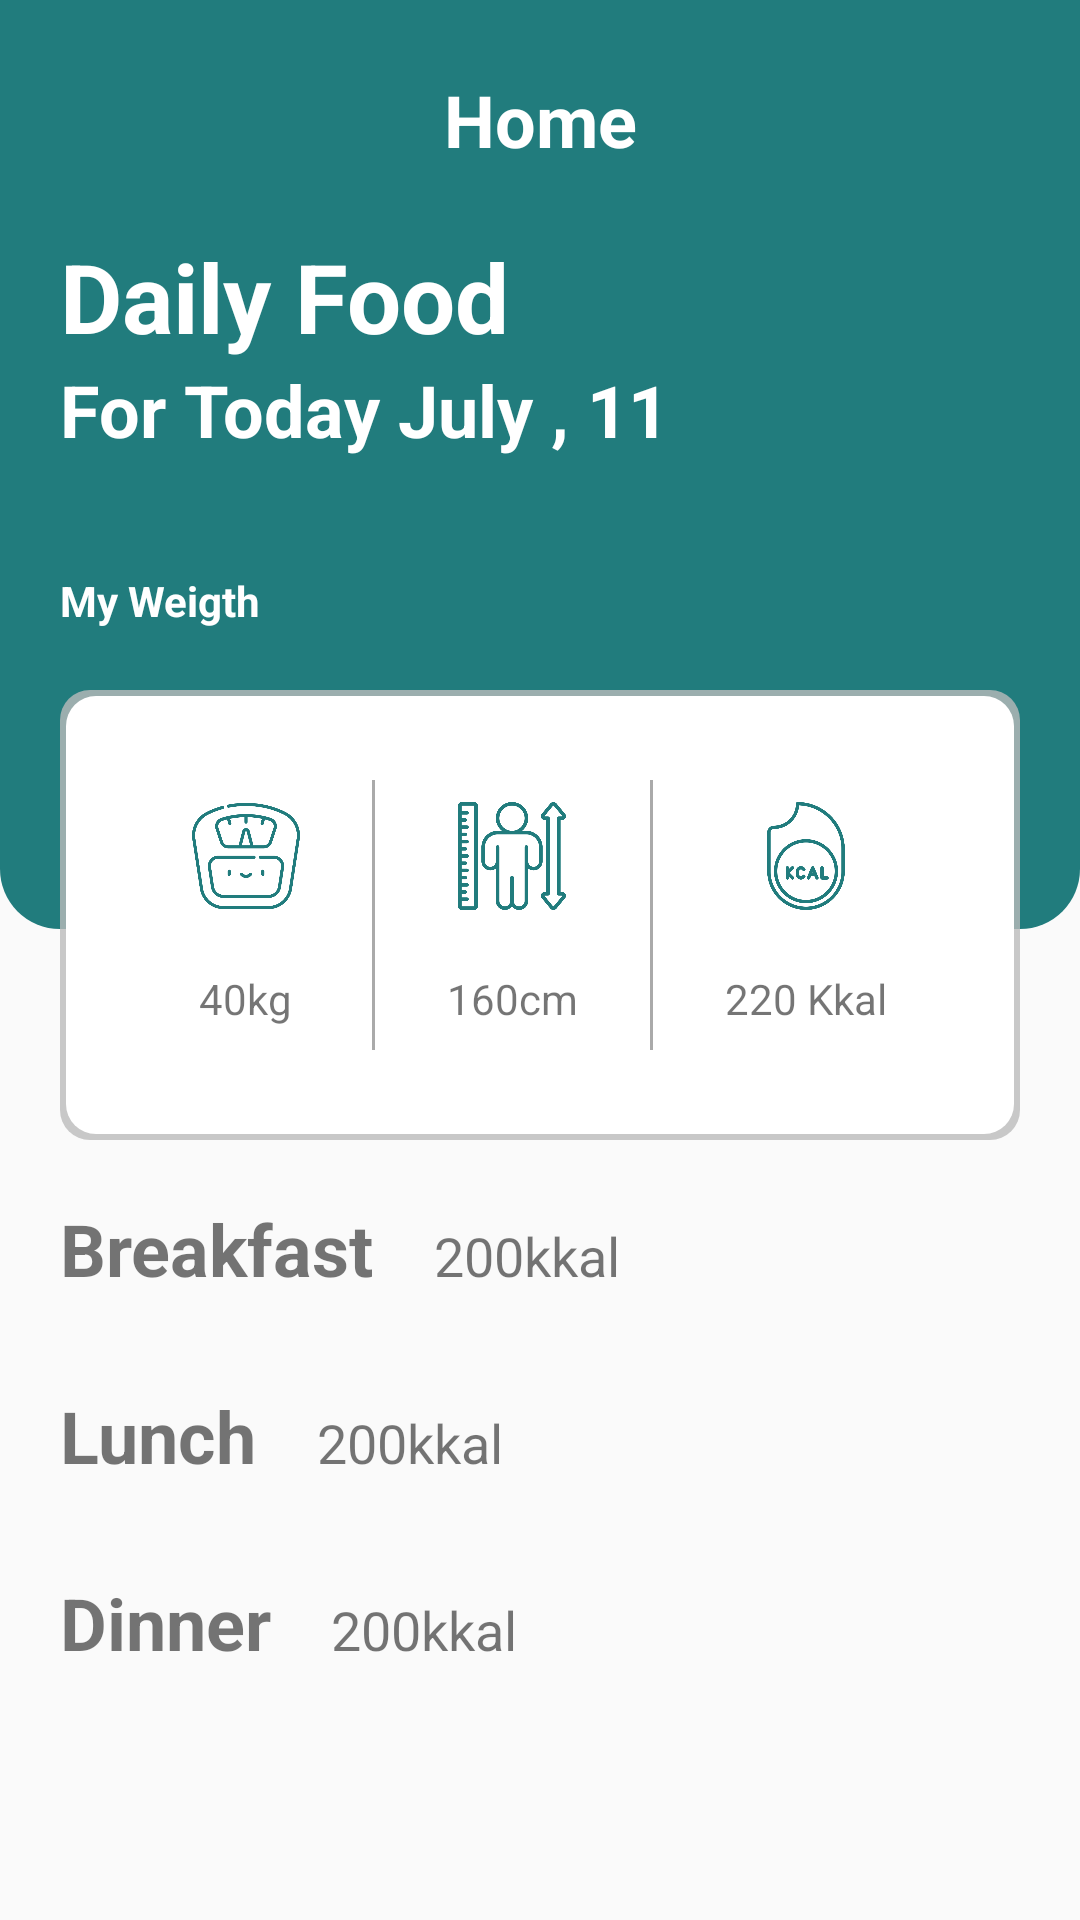

Point at icon controls on the screen. Image size 1080 × 1920, points as [x,y].
height: [512,856]
weight: [246,856]
